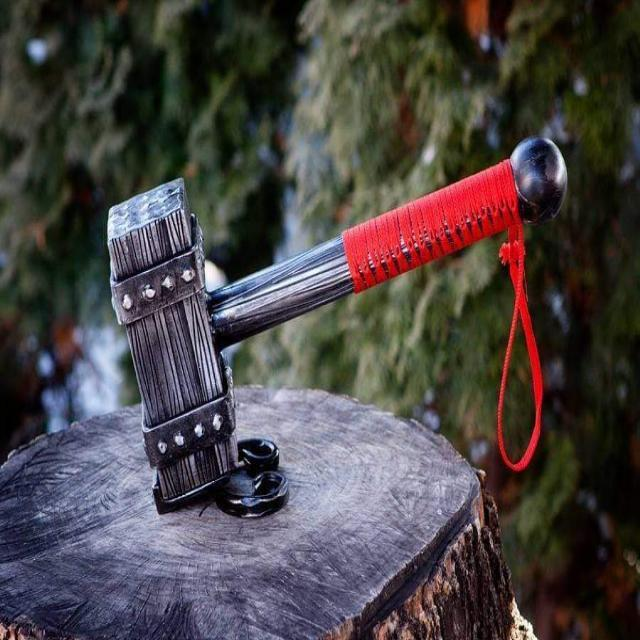hammer: (100, 124, 574, 516)
